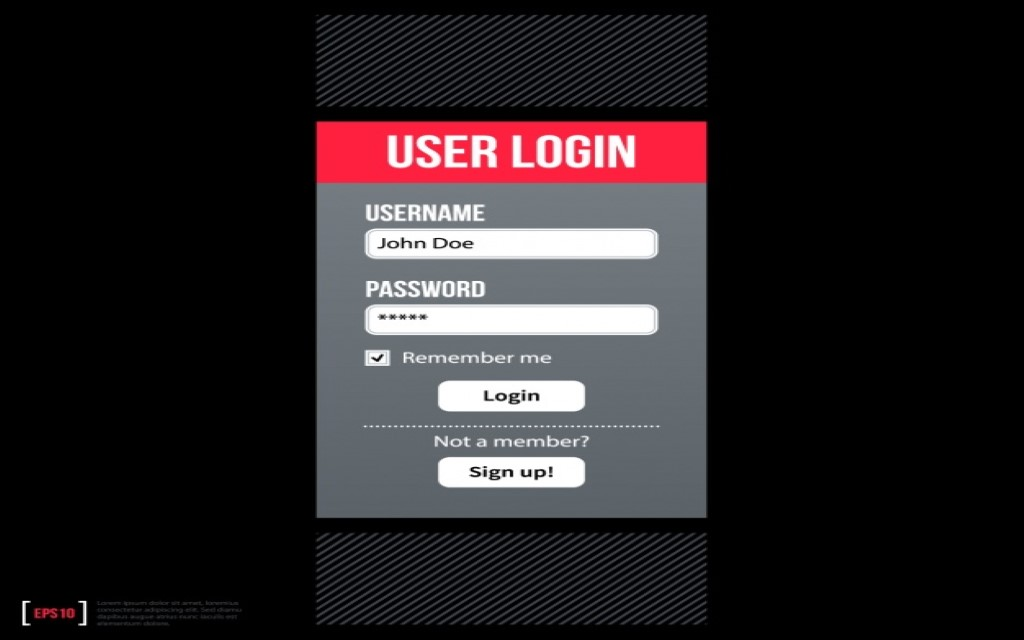button: (438, 455, 585, 487), (438, 379, 584, 410)
button_login: (438, 379, 585, 411)
checkbox: (366, 350, 391, 366)
checkbox_remember: (364, 348, 558, 371)
label_Login: (482, 386, 542, 405)
label_SignUp: (467, 462, 556, 482)
label_Username: (365, 200, 490, 226)
label_password: (364, 277, 488, 300)
label_remember: (402, 350, 556, 367)
textbox: (365, 305, 660, 337), (365, 227, 657, 258)
textbox_Password: (365, 302, 659, 336)
textbox_username: (366, 226, 656, 260)
